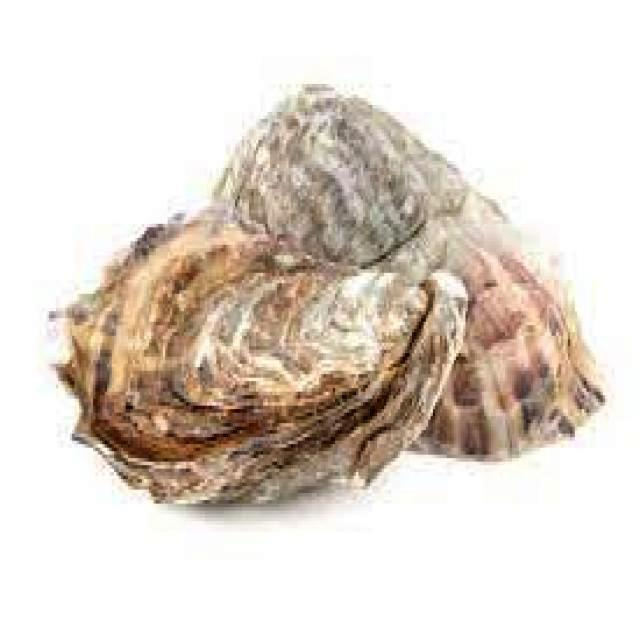Oyster-Closed: (209, 84, 609, 464), (62, 216, 469, 506)
